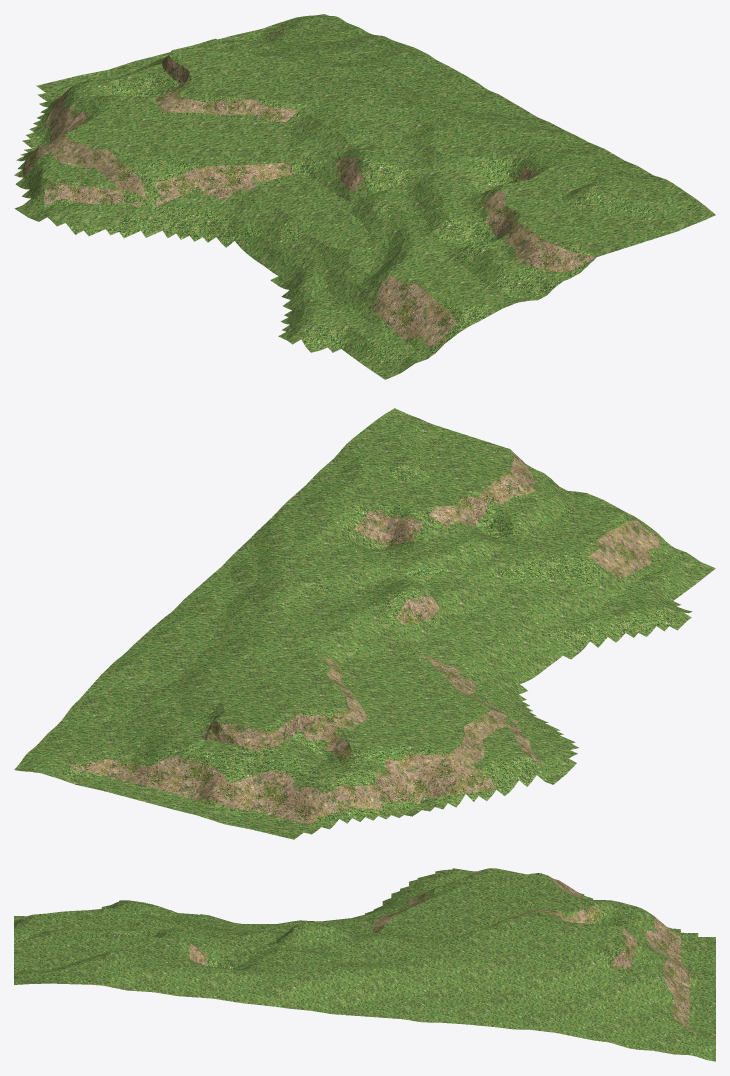
File: OuraHill.glb
The picture shows the model from 3 angles, top to bottom: view 1: azimuth 30°, elevation 25°; view 2: azimuth 150°, elevation 25°; view 3: azimuth 270°, elevation 25°; orthographic projection. The views are drawn at different scales.
Parts seen in each view (by area): view 1: OuraDEM; view 2: OuraDEM; view 3: OuraDEM.
Part boxes in pixels (left/top/right/bottom): OuraDEM: left=14, top=14, right=715, bottom=379; OuraDEM: left=14, top=408, right=715, bottom=839; OuraDEM: left=14, top=868, right=715, bottom=1061.
Size of the model in its own units: 281 by 56.69 by 441.
Materials: 2 (2 with a texture image).
